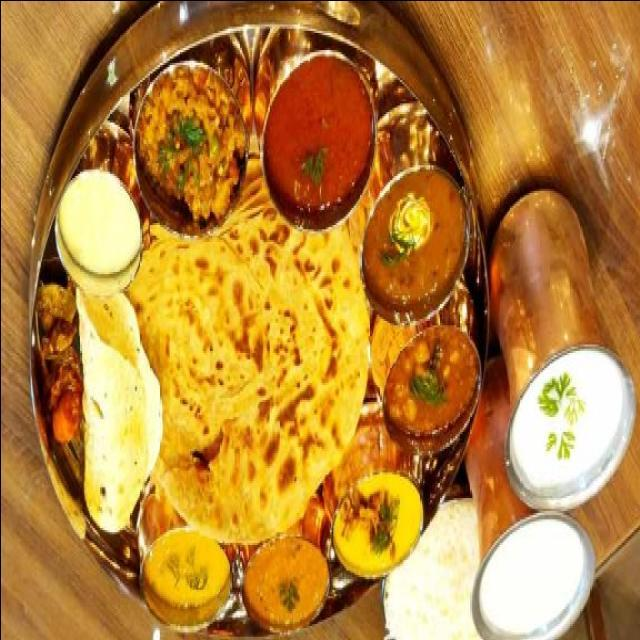curd: (491, 327, 640, 523), (468, 514, 582, 632), (49, 157, 148, 289)
papad: (70, 302, 157, 521)
rice: (153, 229, 365, 525), (127, 53, 240, 230), (381, 494, 481, 639)
sambar-rasam: (258, 49, 379, 241), (359, 148, 475, 331)
veg-fry: (379, 304, 483, 460)
